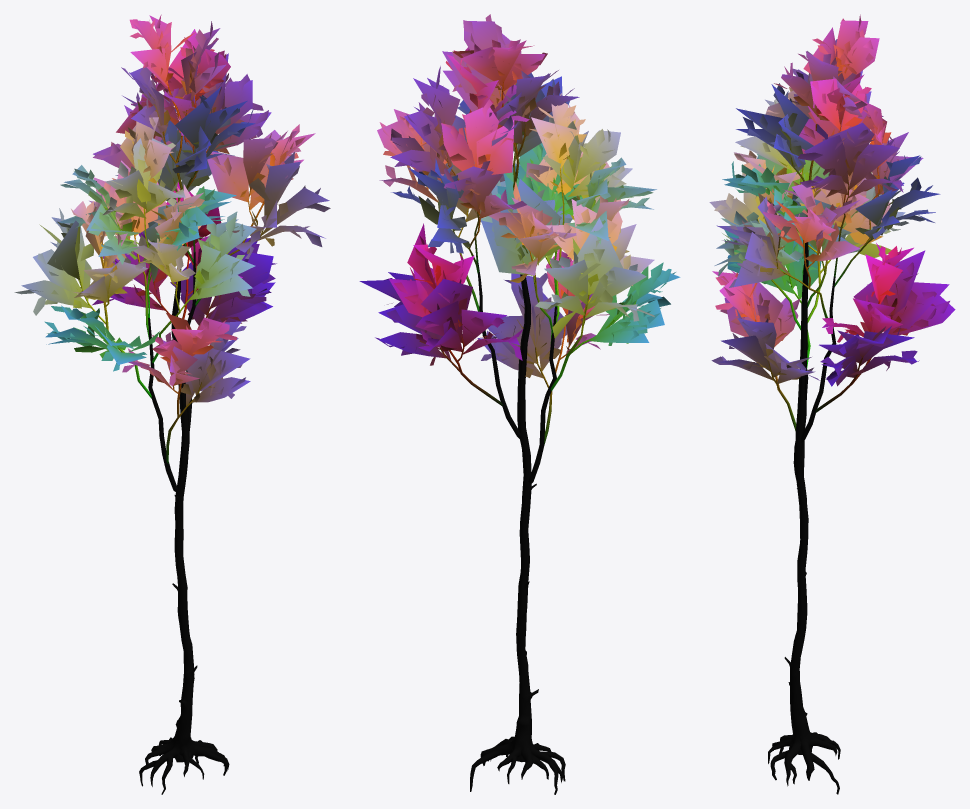
The model's file is SM_EuropeanBeech_L_03.fbx.
The picture shows the model from 3 angles, left to right: view 1: azimuth 30°, elevation 25°; view 2: azimuth 150°, elevation 25°; view 3: azimuth 270°, elevation 25°; orthographic projection. The views are drawn at different scales.
Parts seen in each view (by area): view 1: SM_EuropeanBeech_L_03_LOD0; view 2: SM_EuropeanBeech_L_03_LOD0; view 3: SM_EuropeanBeech_L_03_LOD0.
Boxes of the visible parts, x1,y1,x2,y2 form: SM_EuropeanBeech_L_03_LOD0: [14, 14, 330, 794]; SM_EuropeanBeech_L_03_LOD0: [359, 14, 680, 794]; SM_EuropeanBeech_L_03_LOD0: [709, 14, 955, 794].
Bounding box in the file's own units: 652 × 513 × 1731.
